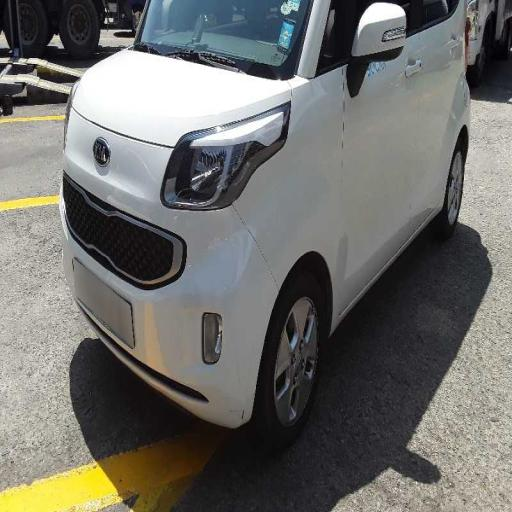normal: (57, 0, 490, 415)
